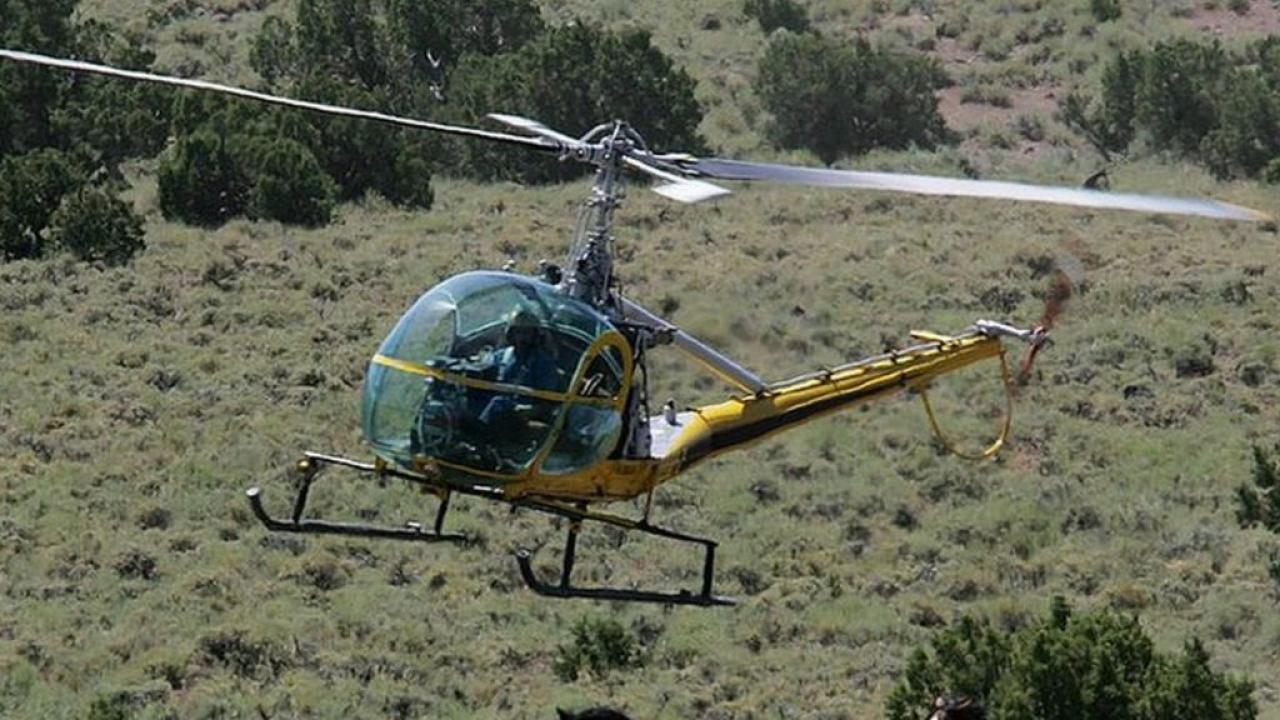Helicopter: (0, 21, 1280, 625)
